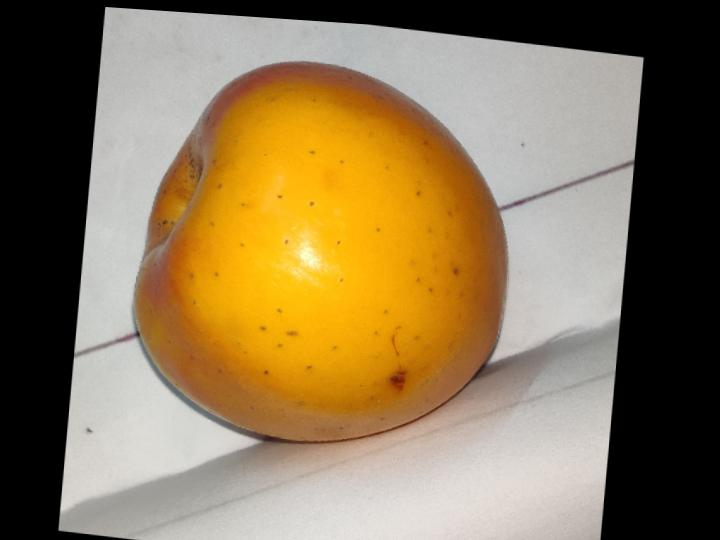apple: (133, 62, 504, 441)
surface_damage: (387, 371, 405, 390)
